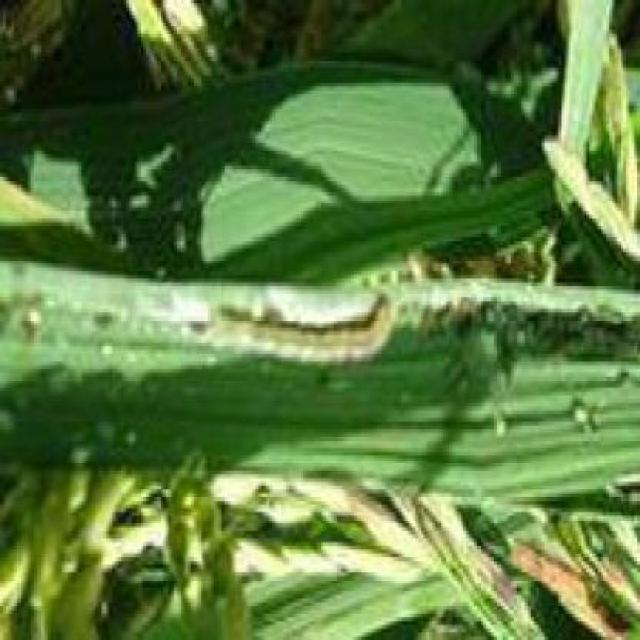leaf-folder: (209, 287, 433, 379)
